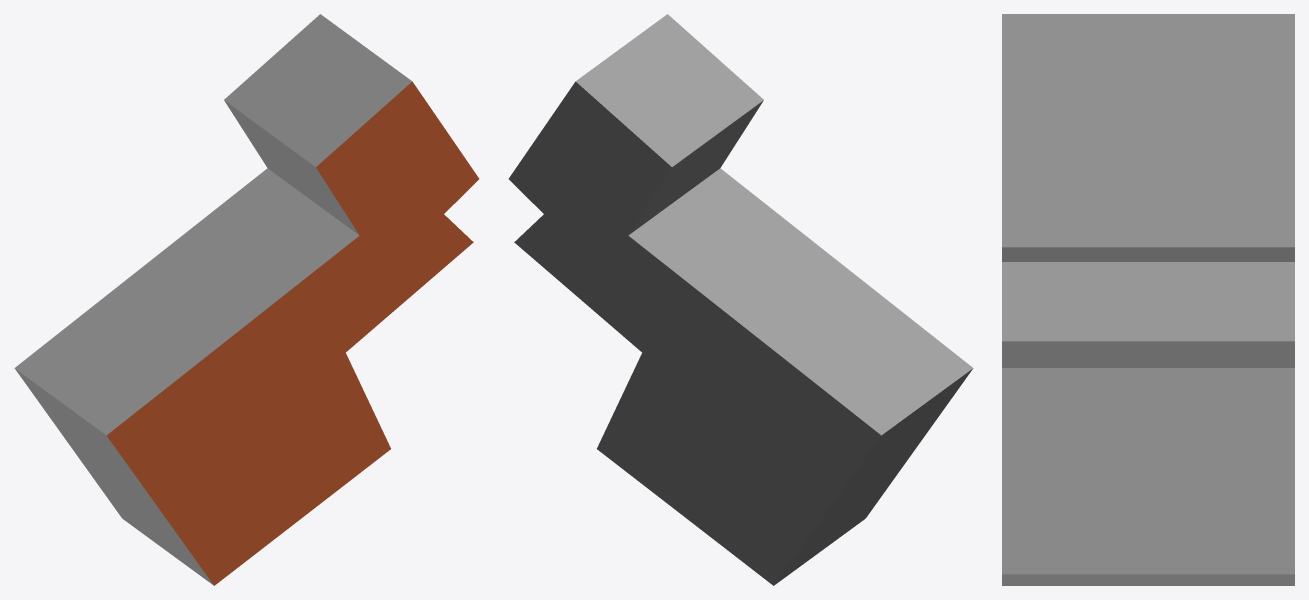
Rendered from construction_7014_assumed_A_Casa_h6m.obj.
The picture shows the model from 3 angles, left to right: view 1: azimuth 30°, elevation 25°; view 2: azimuth 150°, elevation 25°; view 3: azimuth 270°, elevation 25°; orthographic projection. The views are drawn at different scales.
Parts seen in each view (by area): view 1: construction_7014_assumed_A_Casa; view 2: construction_7014_assumed_A_Casa; view 3: construction_7014_assumed_A_Casa.
Part boxes in pixels (x1=…): construction_7014_assumed_A_Casa: x1=14, y1=14, x2=479, y2=585; construction_7014_assumed_A_Casa: x1=508, y1=14, x2=973, y2=585; construction_7014_assumed_A_Casa: x1=1002, y1=14, x2=1294, y2=585.
Size of the model in its own units: 14.03 by 16.41 by 6.
